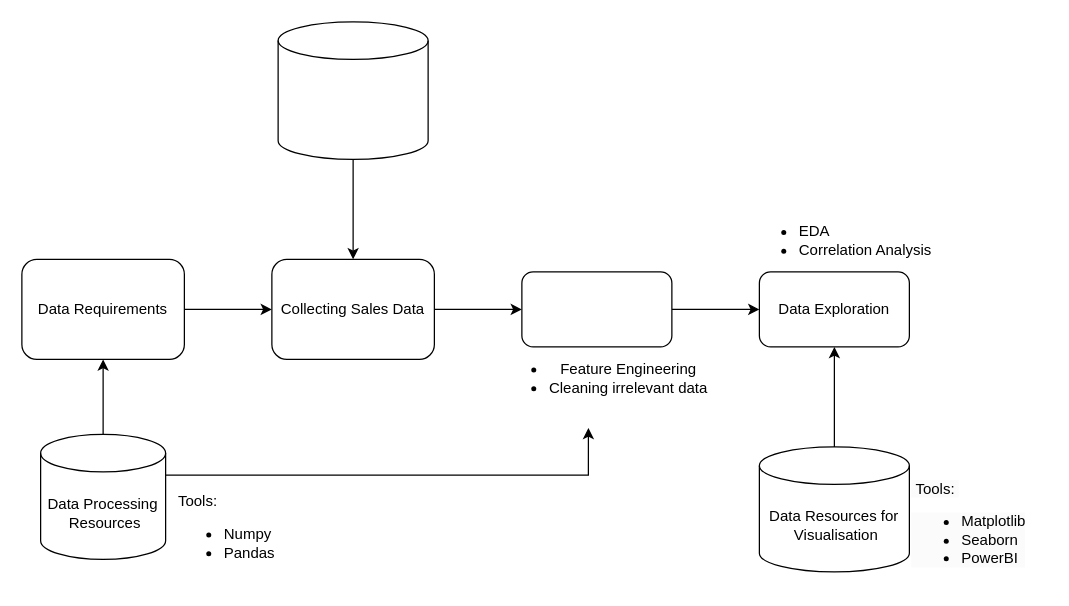
Some shapes in this 1069 by 606 pixel diagram are drawn without their labels. The box of each missing label's shape, as (x1, y1, x2, y2) in pixels:
BigMartDB: (277, 21, 428, 159)
Data Preproccesing: (521, 271, 672, 347)
